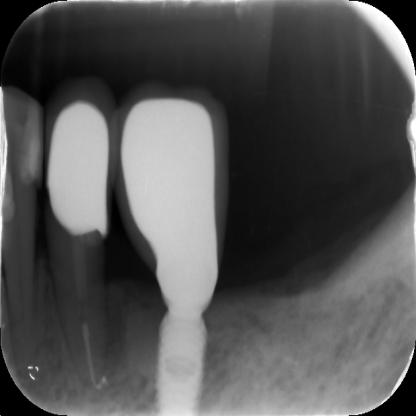Bicon: (153, 317, 210, 416)
